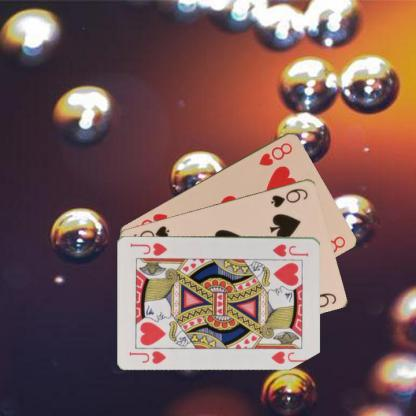6s: (268, 186, 309, 208)
8h: (256, 139, 293, 167)
Jh: (127, 348, 168, 366), (270, 241, 310, 258)
